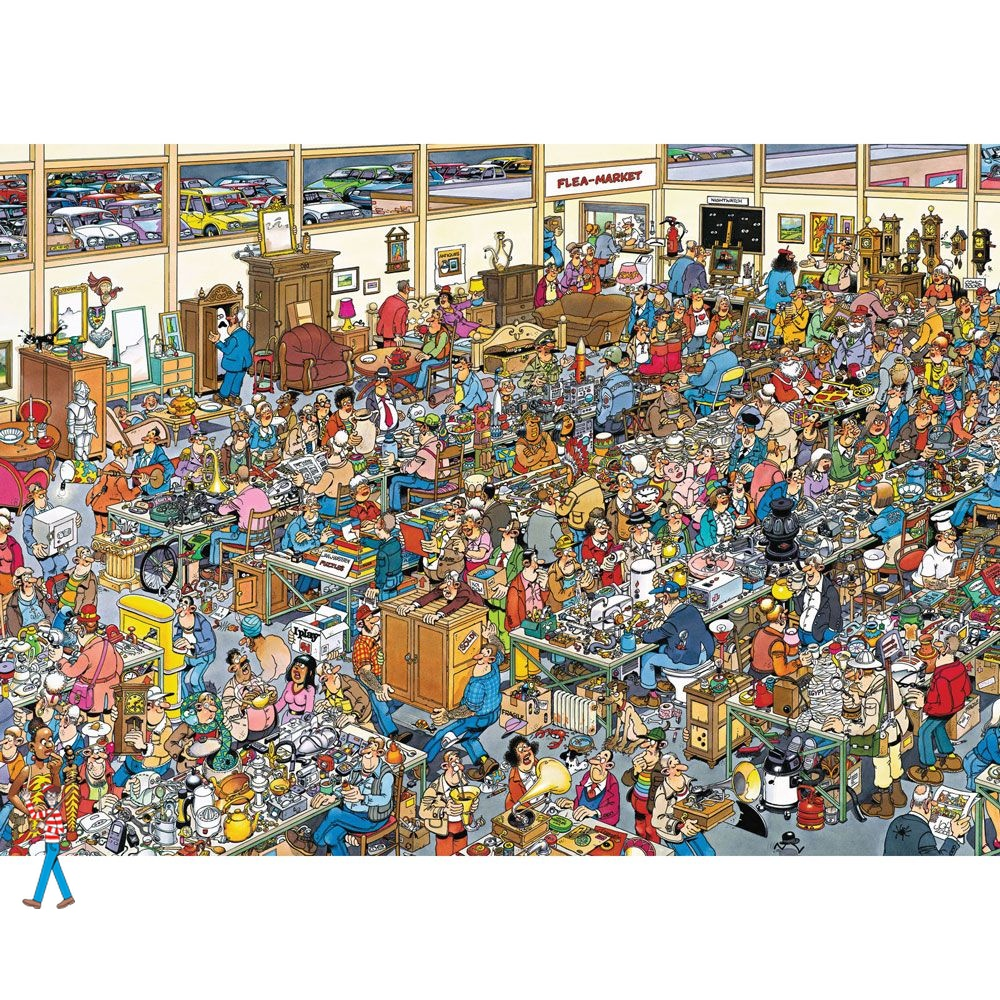waldo: (20, 783, 75, 909)
